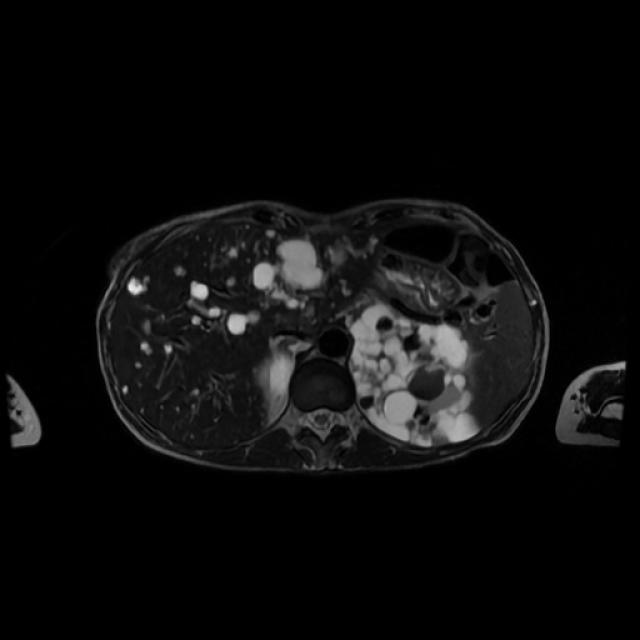sag: (267, 352, 294, 394)
sol: (350, 302, 481, 446)
